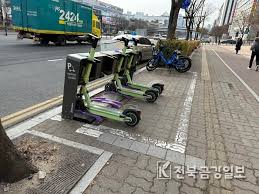kick_handler: (77, 35, 101, 46)
kick_wheel: (123, 107, 141, 126), (145, 89, 157, 104)
